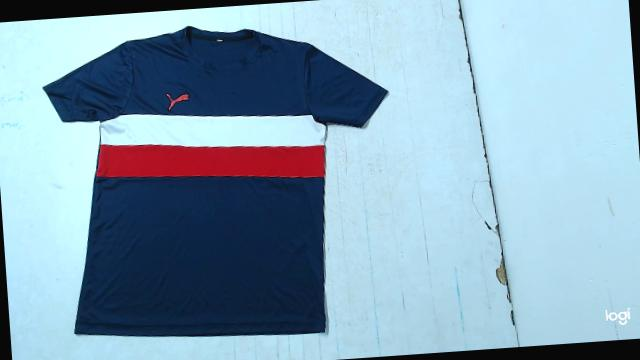new-garment: (43, 26, 387, 335)
